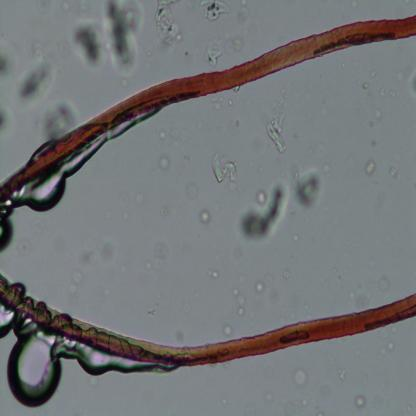Air bubble: (0, 334, 120, 411), (13, 152, 88, 212)
Background material: (73, 0, 146, 77), (236, 176, 290, 247), (15, 56, 57, 110), (289, 163, 325, 214), (42, 96, 82, 140), (153, 0, 184, 47), (208, 148, 239, 186), (267, 112, 289, 160), (0, 36, 19, 84), (79, 242, 117, 266), (66, 266, 92, 298), (142, 244, 167, 274), (200, 38, 224, 68), (360, 99, 384, 127), (197, 1, 233, 19), (354, 63, 376, 92), (221, 40, 246, 63), (210, 91, 236, 112), (375, 336, 398, 359), (230, 285, 247, 316), (0, 106, 13, 142), (255, 273, 274, 295), (183, 178, 201, 200), (362, 156, 377, 180), (328, 359, 346, 378), (197, 207, 214, 226), (372, 272, 388, 292), (292, 368, 308, 388), (156, 152, 171, 173), (236, 1, 252, 20), (144, 303, 159, 321), (230, 111, 244, 129), (352, 393, 366, 410), (281, 398, 295, 414), (379, 82, 391, 100), (220, 323, 233, 339), (409, 69, 416, 97), (206, 267, 221, 280), (286, 230, 298, 244), (160, 128, 171, 142), (262, 389, 273, 402), (388, 164, 398, 178), (300, 396, 310, 409), (282, 266, 288, 281)
Hair textile: (0, 12, 416, 202), (0, 271, 416, 367)
